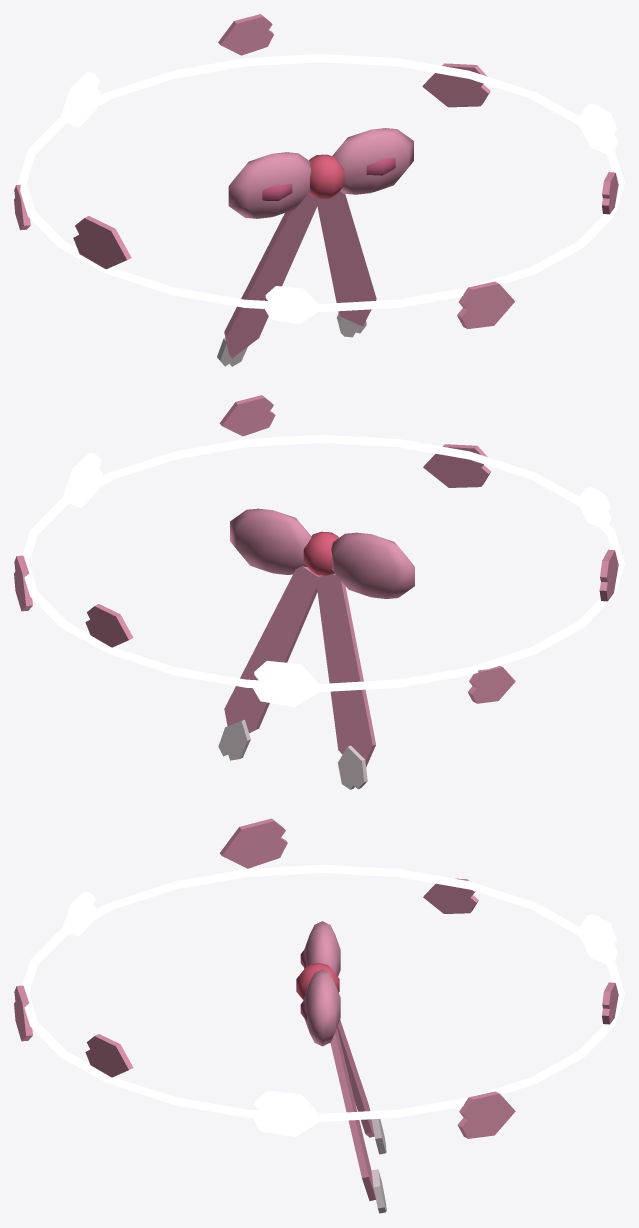
The model's file is rei_p0.glb.
3 renders of one model, top to bottom at view 1: azimuth 30°, elevation 25°; view 2: azimuth 150°, elevation 25°; view 3: azimuth 270°, elevation 25°, orthographic.
Parts seen in each view (by area): view 1: p0_bow_body, p0_petals_glow, p0_petals_body; view 2: p0_bow_body, p0_petals_glow, p0_petals_body; view 3: p0_petals_glow, p0_petals_body, p0_bow_body.
Boxes of the visible parts, <box> form: p0_bow_body: <box>217,128,413,366</box>; p0_petals_glow: <box>17,54,624,324</box>; p0_petals_body: <box>14,14,618,328</box>; p0_bow_body: <box>218,508,414,789</box>; p0_petals_glow: <box>22,434,624,707</box>; p0_petals_body: <box>14,395,618,703</box>; p0_petals_glow: <box>22,864,624,1137</box>; p0_petals_body: <box>14,818,618,1138</box>; p0_bow_body: <box>296,921,386,1213</box>.
Bounding box in the file's own units: 0.6967 × 0.299 × 0.6987.
